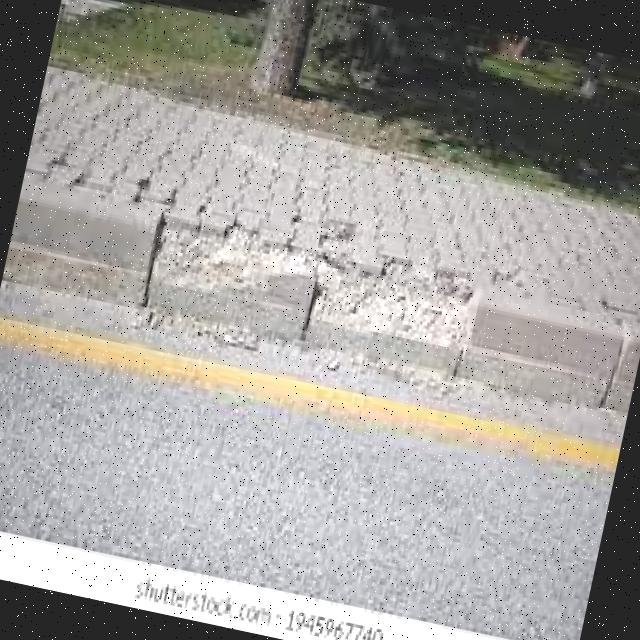curb: (453, 290, 626, 415), (5, 184, 164, 311), (149, 235, 316, 341), (303, 291, 468, 372)
